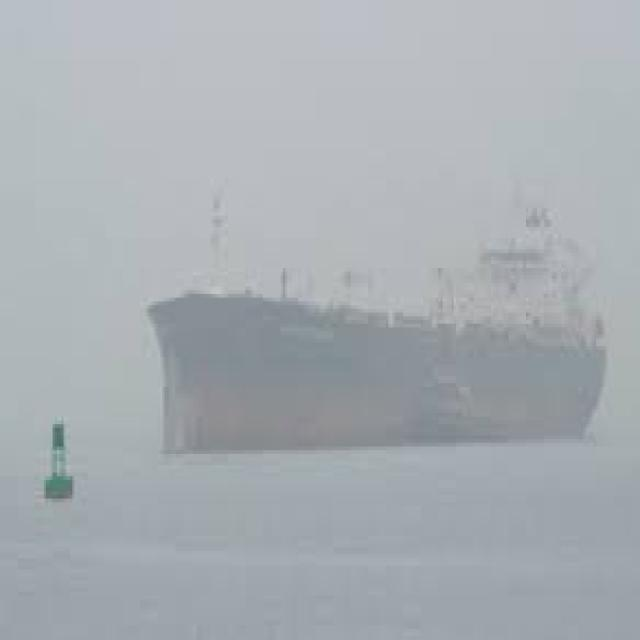cargoship: (148, 197, 606, 460)
